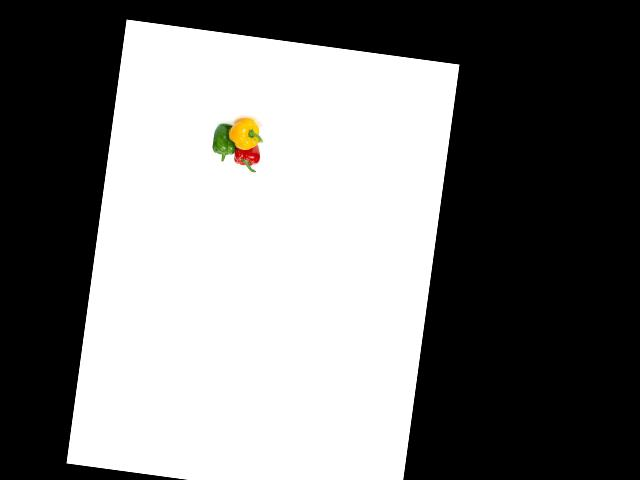bell_pepper: (228, 137, 266, 176)
